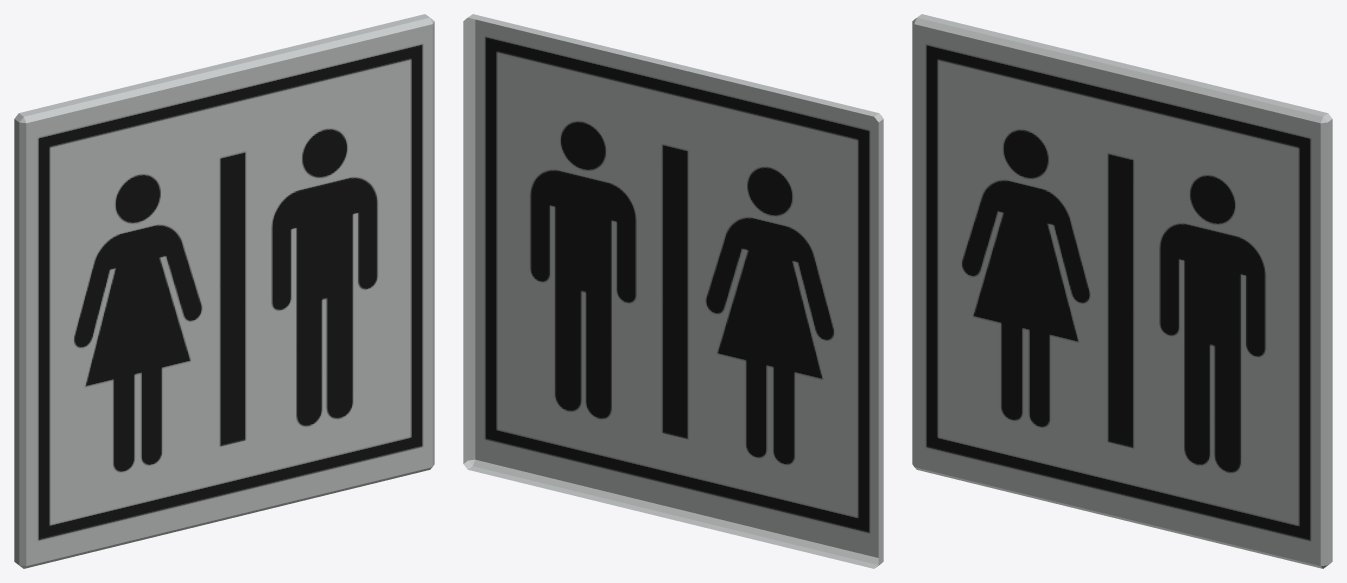
The picture shows the model from 3 angles, left to right: view 1: azimuth 30°, elevation 25°; view 2: azimuth 150°, elevation 25°; view 3: azimuth 330°, elevation 25°; orthographic projection.
Parts seen in each view (by area): view 1: WC2; view 2: WC2; view 3: WC2.
Part boxes in pixels (bbox=[...]): WC2: bbox=[14, 14, 434, 568]; WC2: bbox=[463, 14, 883, 568]; WC2: bbox=[912, 14, 1332, 568].
Bounding box in the file's own units: 14.42 × 15 × 0.4533.
